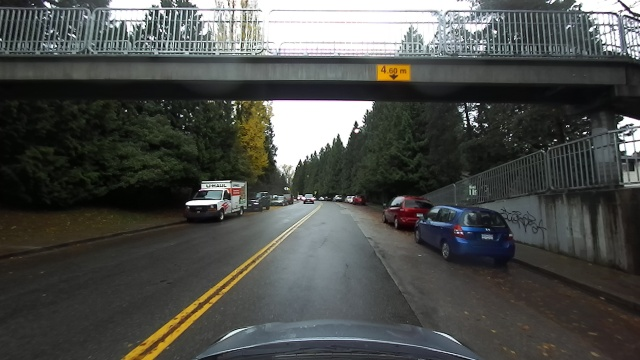car: (413, 203, 518, 266), (179, 178, 246, 220), (381, 195, 435, 231), (248, 190, 273, 212), (272, 195, 289, 206), (301, 193, 315, 206), (353, 194, 365, 204), (286, 192, 295, 204), (332, 194, 344, 202), (296, 193, 304, 201), (345, 195, 352, 203), (324, 195, 330, 201), (318, 195, 323, 202)
